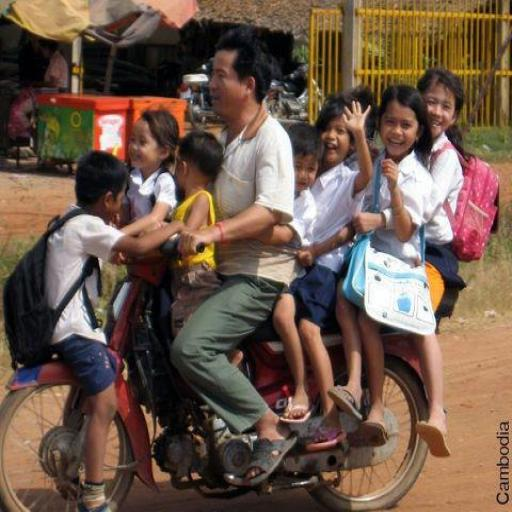overloading: (2, 24, 479, 508)
